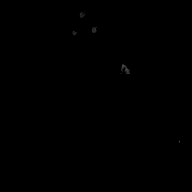v: (71, 9, 97, 34)
